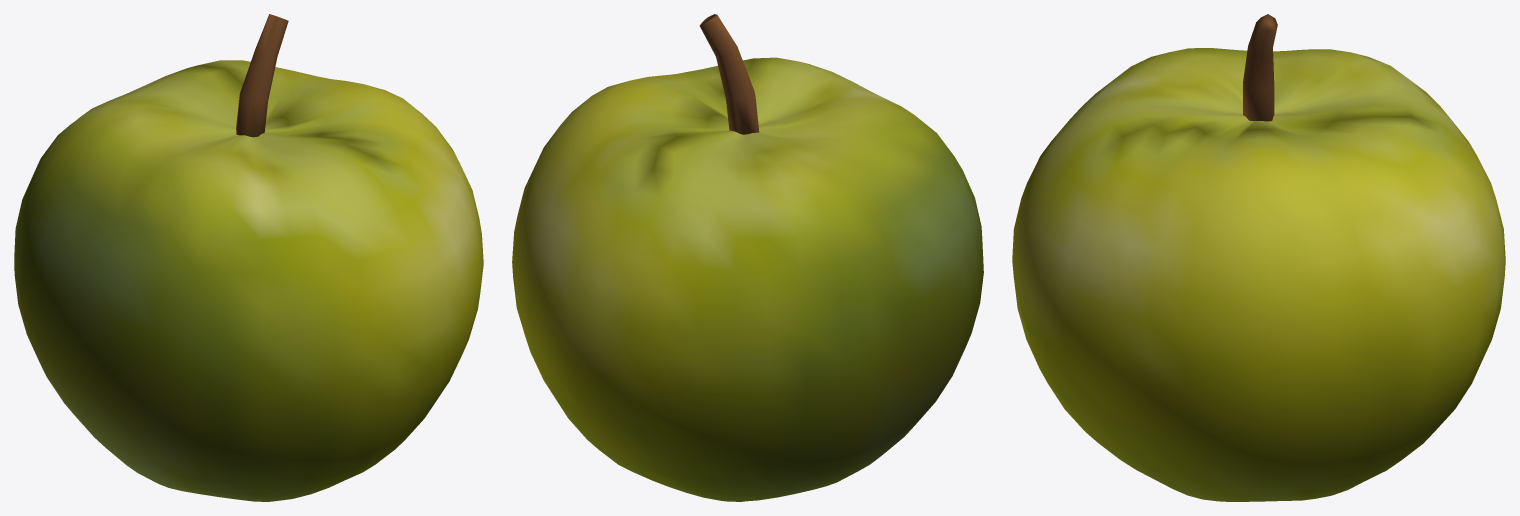
Rendered from apple_green.glb.
3 views of the same model, side by side, from view 1: azimuth 30°, elevation 25°; view 2: azimuth 150°, elevation 25°; view 3: azimuth 270°, elevation 25° (orthographic). The views are drawn at different scales.
Visible parts, largest first — view 1: Plant; view 2: Plant; view 3: Plant.
Part boxes in pixels (bbox=[...]): Plant: bbox=[14, 14, 483, 501]; Plant: bbox=[512, 14, 983, 501]; Plant: bbox=[1012, 14, 1505, 501].
Size of the model in its own units: 0.3156 by 0.3335 by 0.3156.
